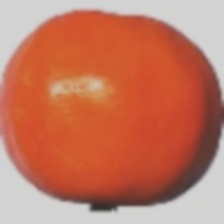tangerine: (11, 0, 177, 199)
